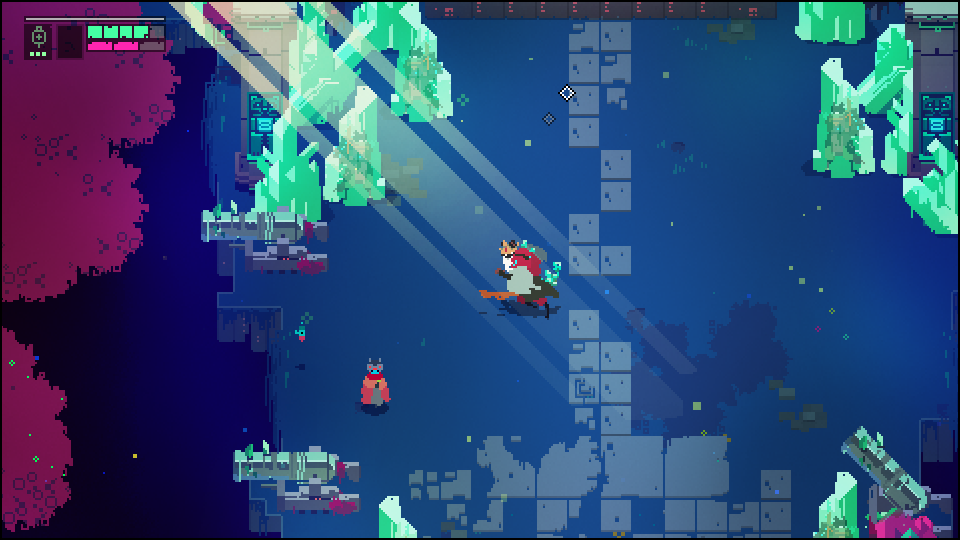hanged_man: (478, 239, 556, 317)
player: (362, 355, 392, 410)
